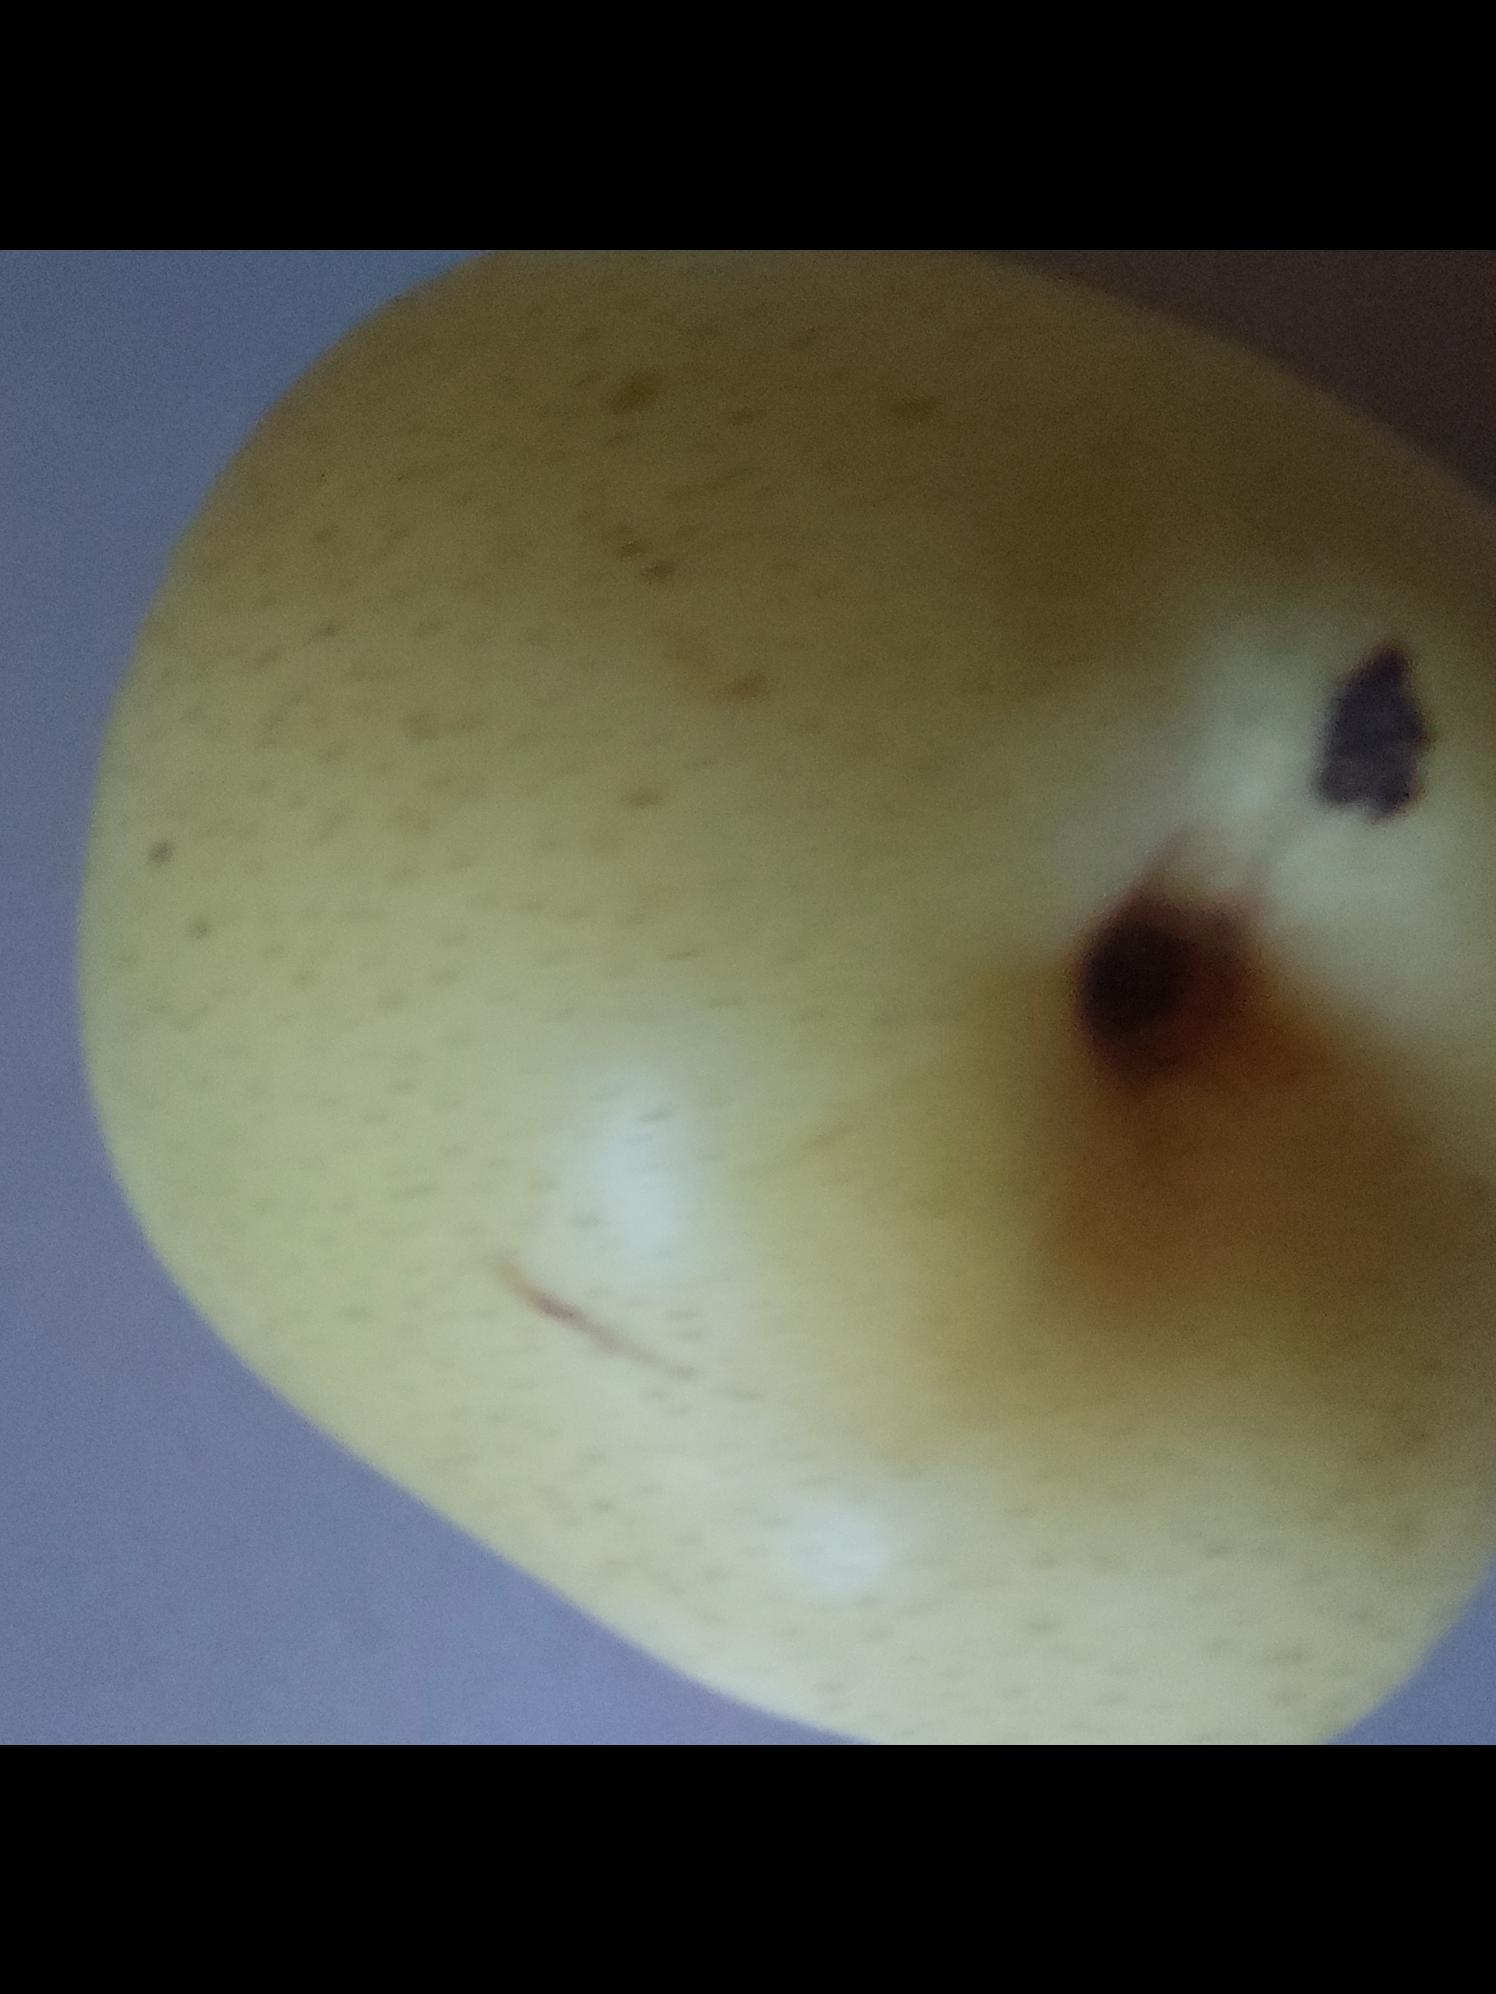Good Pear: (27, 248, 1496, 1746)
